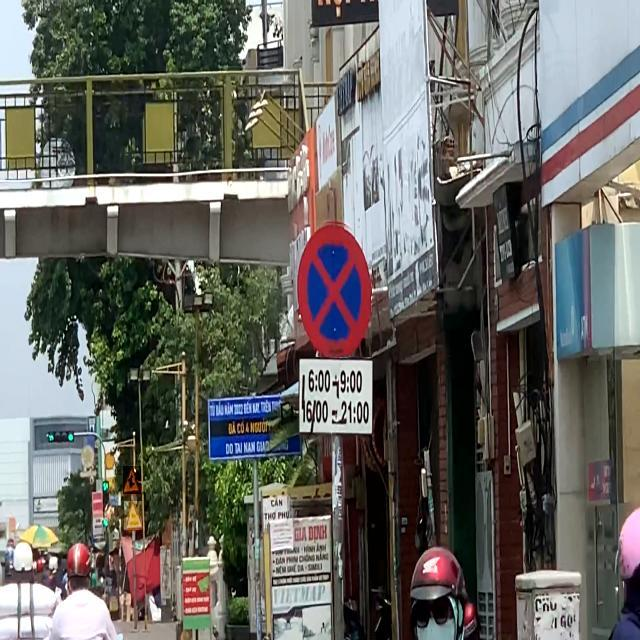P-130: (297, 220, 372, 357)
W-207a: (123, 467, 141, 495)
W-245a: (124, 501, 142, 530)
